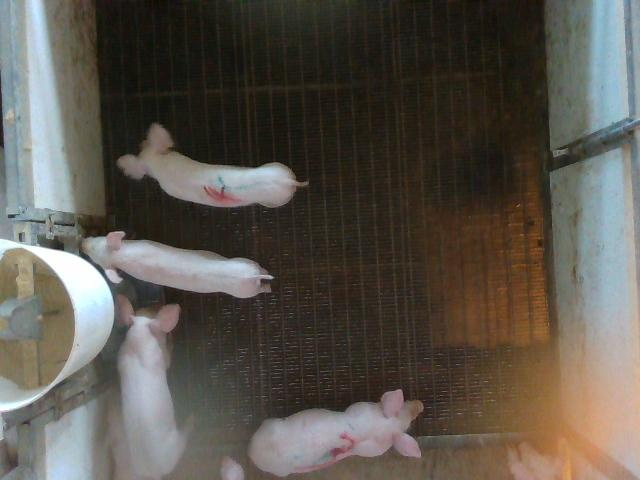pig-3: (248, 389, 424, 476)
pig-4: (118, 124, 309, 208)
